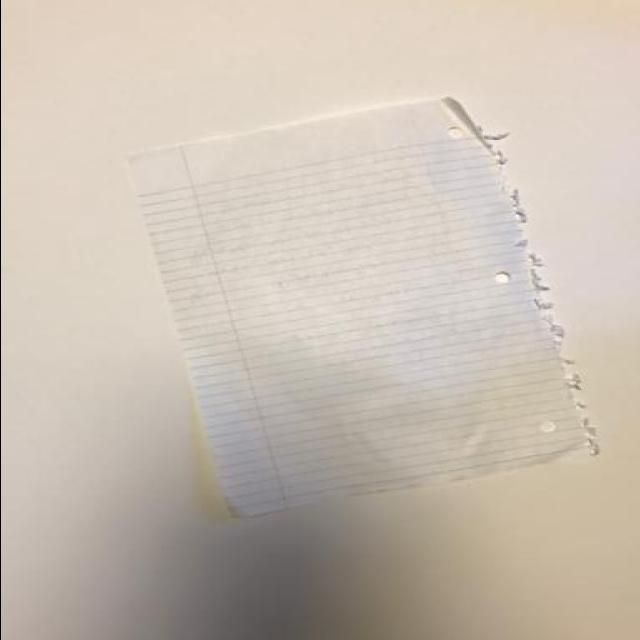kertas: (128, 90, 598, 522)
